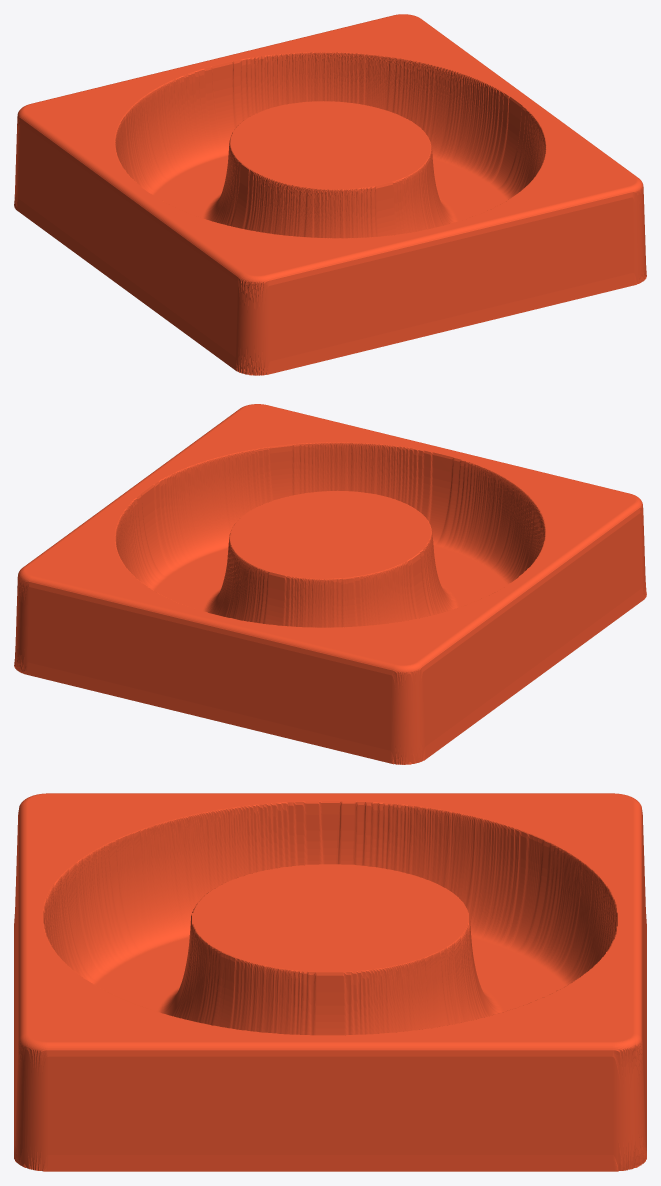
The model's file is mold.glb.
3 views of the same model, one above another, from view 1: azimuth 30°, elevation 25°; view 2: azimuth 150°, elevation 25°; view 3: azimuth 270°, elevation 25° (orthographic). The views are drawn at different scales.
Visible parts, largest first — view 1: geometry_0; view 2: geometry_0; view 3: geometry_0.
Boxes of the visible parts, bbox=[...] form: geometry_0: bbox=[14, 14, 646, 375]; geometry_0: bbox=[14, 404, 646, 764]; geometry_0: bbox=[14, 793, 646, 1171].
Bounding box in the file's own units: 0.1636 × 0.0365 × 0.1689.
